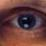eye: (18, 15, 36, 30)
